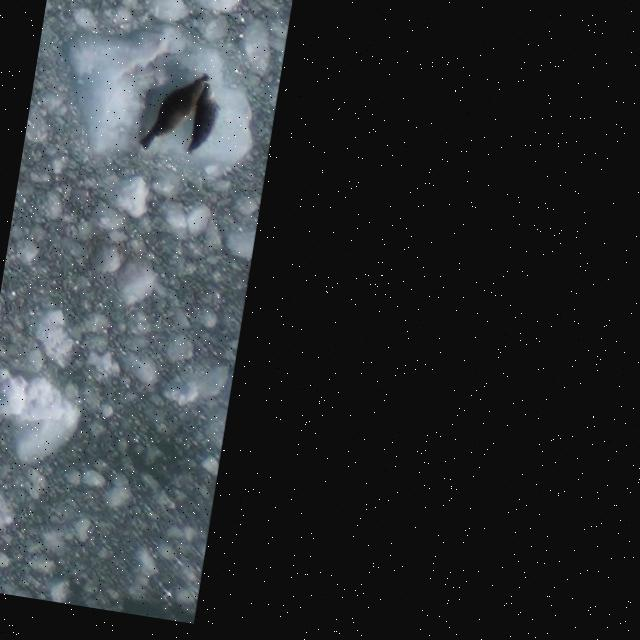seal: (124, 69, 226, 153), (179, 80, 231, 161)
